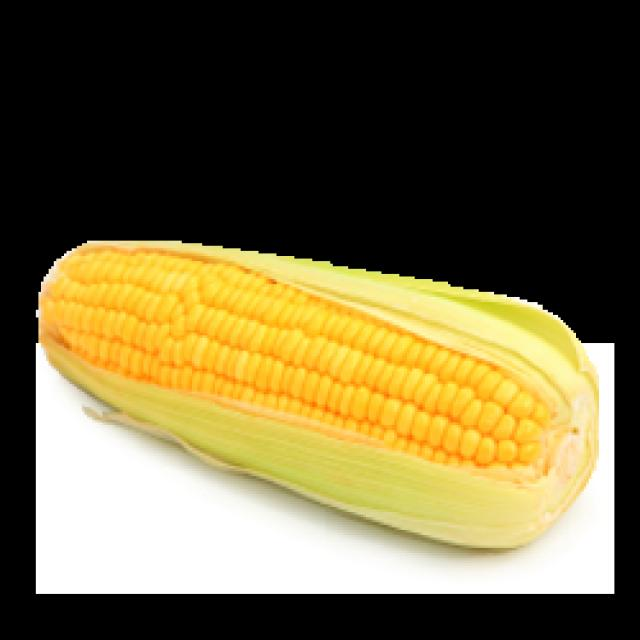corn: (19, 207, 613, 563)
